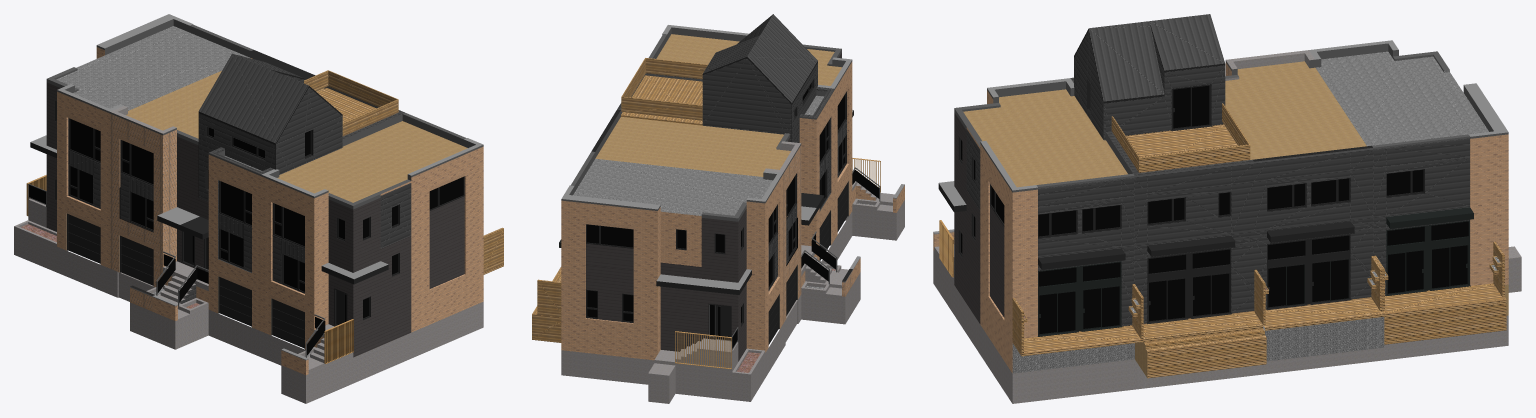
3 renders of one model, left to right at view 1: azimuth 30°, elevation 25°; view 2: azimuth 150°, elevation 25°; view 3: azimuth 270°, elevation 25°, orthographic. The views are drawn at different scales.
Visible parts, largest first — view 1: Object004; view 2: Object004; view 3: Object004.
Part boxes in pixels (x1,y1,x2,y2): Object004: (14,14,503,403); Object004: (532,14,904,403); Object004: (933,14,1521,403).
Size of the model in its own units: 729 by 583 by 1055.
28 materials, 21 textured.
